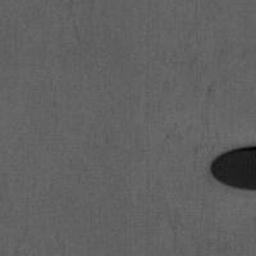Punching: (210, 146, 256, 190)
